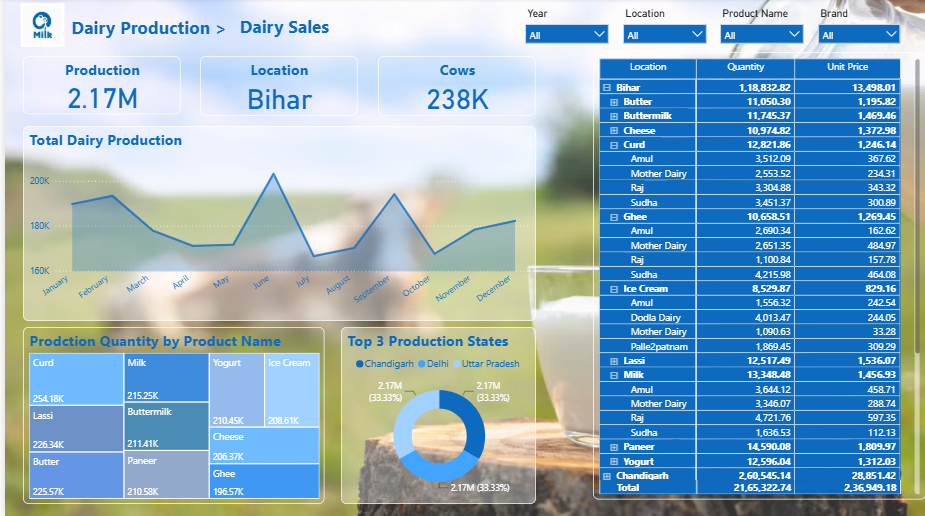

The page's visual inventory and layout, read from the dashboard file:
{"tool":"powerbi","page":{"name":"Dairy Production","canvas":[1280,720],"ordinal":2},"visuals":[{"type":"image","box":[16.7,0,71.1,74.4],"z":0},{"type":"textbox","box":[87.8,18.9,235.6,51.1],"z":1000},{"type":"card","title":"Production","fields":{"Values":["Sum(Dairy.Quantity (liters/kg))"]},"box":[24.4,81.1,218.9,81.1],"z":2000},{"type":"card","title":"Cows","fields":{"Values":["Sum(Dairy.Number of Cows)"]},"box":[518.9,80,218.9,83.3],"z":3000},{"type":"card","title":"Location","fields":{"Values":["Min(Dairy.Location)"]},"box":[271.1,80,218.9,83.3],"z":4000},{"type":"stackedAreaChart","title":"Total Dairy Production","fields":{"Y":["Sum(Dairy.Quantity (liters/kg))"],"Category":["Dairy.Date.Variation.Date Hierarchy.Month"]},"box":[24.4,177.8,713.3,271.1],"z":5000},{"type":"slicer","fields":{"Values":["Dairy.Year"]},"box":[713.3,7.8,135.6,73.3],"z":6000},{"type":"slicer","fields":{"Values":["Dairy.Location"]},"box":[848.9,7.8,135.6,72.2],"z":7000},{"type":"pivotTable","fields":{"Rows":["Dairy.Location","Dairy.Product Name","Dairy.Brand"],"Values":["Sum(Dairy.Quantity (liters/kg))","Sum(Dairy.Price per Unit)"]},"box":[817.5,74.5,462.9,621.6],"z":8000},{"type":"slicer","fields":{"Values":["Dairy.Product Name"]},"box":[984.4,7.8,135.6,73.3],"z":9000},{"type":"slicer","fields":{"Values":["Dairy.Brand"]},"box":[1120,7.8,134.4,72.2],"z":10000},{"type":"treemap","title":"Prodction Quantity by Product Name","fields":{"Values":["Sum(Dairy.Quantity (liters/kg))"],"Group":["Dairy.Product Name"]},"box":[24.4,456.7,418.9,245.6],"z":11000},{"type":"actionButton","title":"Dairy Sales","box":[293.3,22.2,190,43.3],"z":12000},{"type":"donutChart","title":"Top 3 Production States","fields":{"Category":["Table.Column1"],"Y":["Sum(Dairy.Quantity (liters/kg))"]},"box":[466.7,456.7,271.1,245.6],"z":13000}]}

Visuals, with their boxes in screenshot pixels (x1, y1, x2, y2), scaled from the page's 1280x720 canvas onto the 925x516 screenshot:
image: crop(12, 0, 63, 53)
textbox: crop(63, 14, 234, 50)
"Production" card: crop(18, 58, 176, 116)
"Cows" card: crop(375, 57, 533, 117)
"Location" card: crop(196, 57, 354, 117)
"Total Dairy Production" stackedAreaChart: crop(18, 127, 533, 322)
slicer - Dairy.Year: crop(515, 6, 613, 58)
slicer - Dairy.Location: crop(613, 6, 711, 57)
pivotTable - Dairy.Location x Dairy.Product Name: crop(591, 53, 924, 499)
slicer - Dairy.Product Name: crop(711, 6, 809, 58)
slicer - Dairy.Brand: crop(809, 6, 907, 57)
"Prodction Quantity by Product Name" treemap: crop(18, 327, 320, 503)
"Dairy Sales" actionButton: crop(212, 16, 349, 47)
"Top 3 Production States" donutChart: crop(337, 327, 533, 503)
